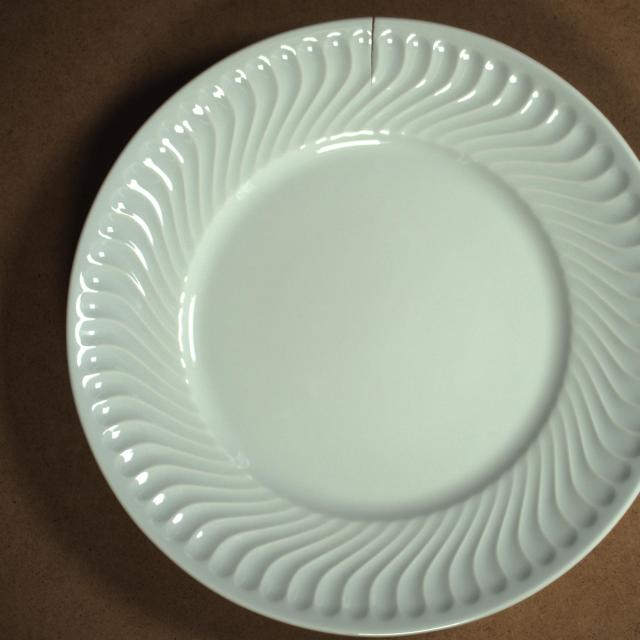plate: (68, 18, 640, 635)
